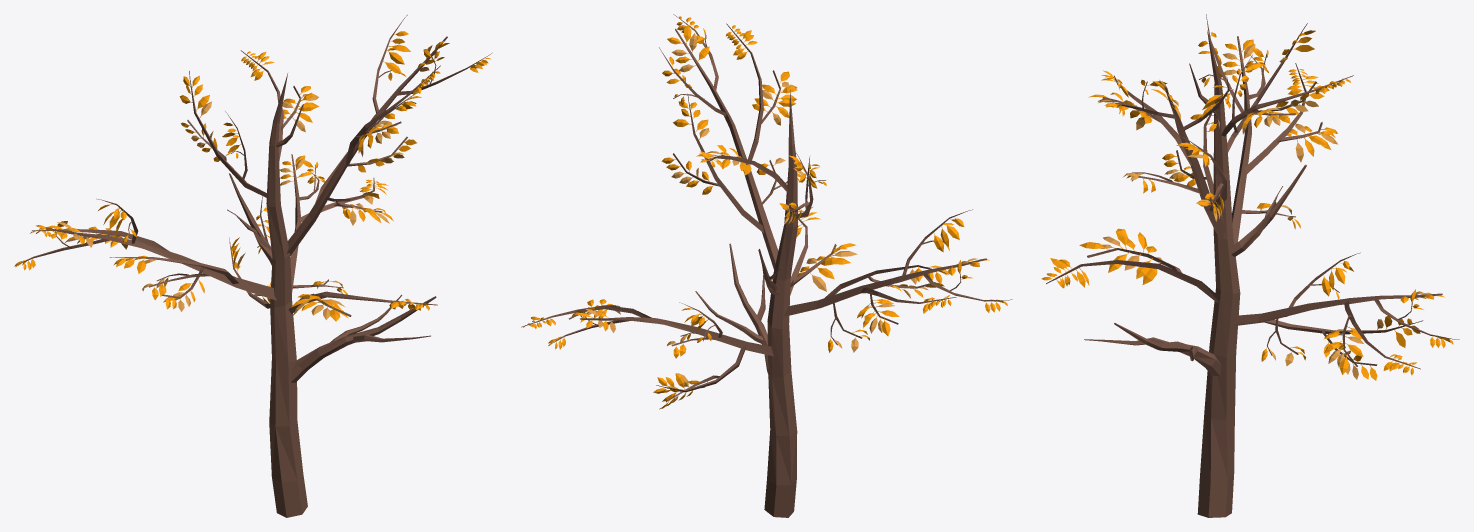
Rendered from fall_tree.glb.
3 views of the same model, side by side, from view 1: azimuth 30°, elevation 25°; view 2: azimuth 150°, elevation 25°; view 3: azimuth 270°, elevation 25° (orthographic). The views are drawn at different scales.
Parts seen in each view (by area): view 1: Node; view 2: Node; view 3: Node.
Part boxes in pixels (box(x1,y1,x2,y2)): Node: box(14, 14, 492, 517); Node: box(521, 14, 1012, 517); Node: box(1041, 14, 1459, 517).
Bounding box in the file's own units: 5.85 × 5.91 × 4.44.
